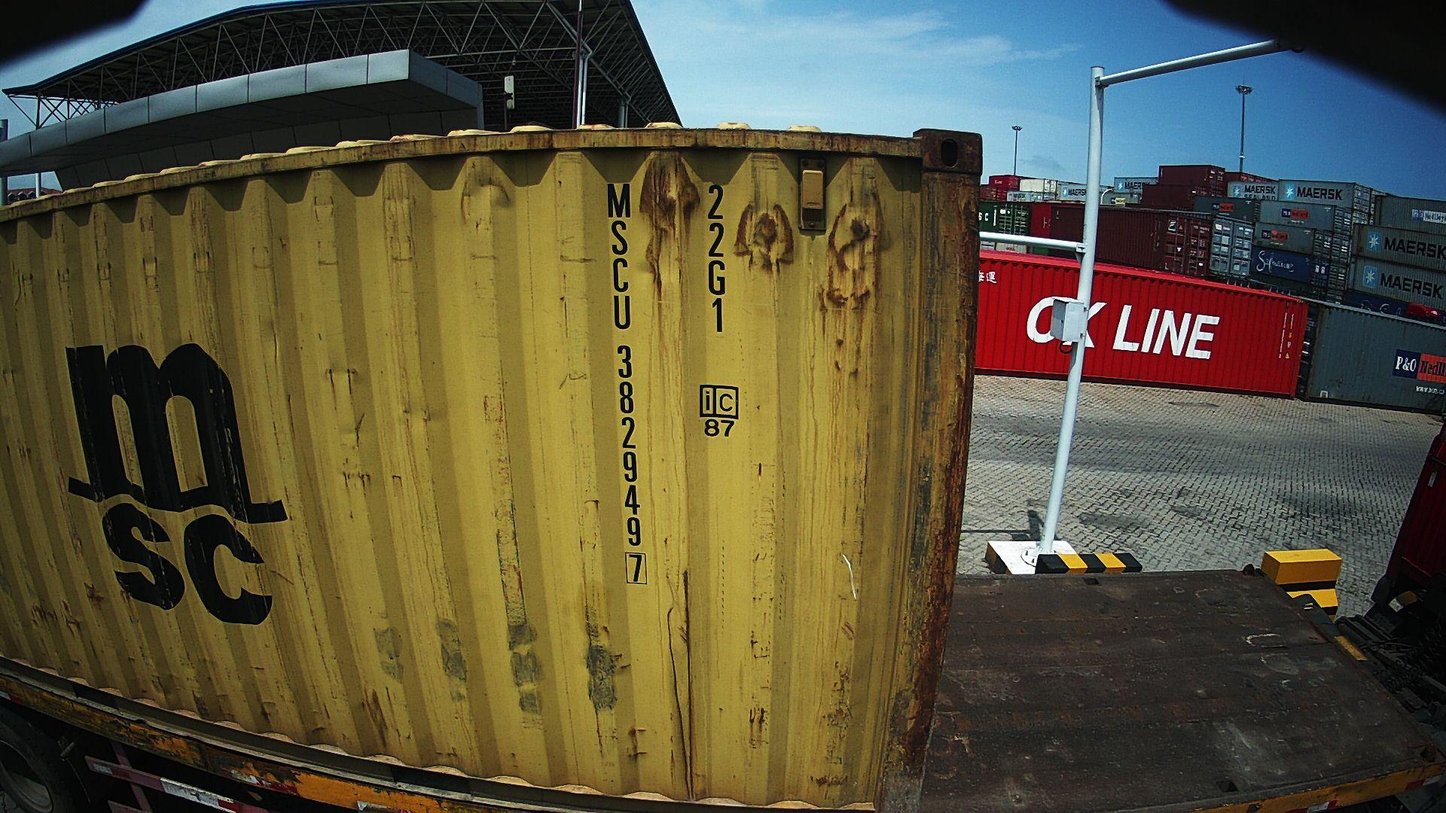container-numbers: (603, 179, 651, 589), (700, 182, 731, 338)
